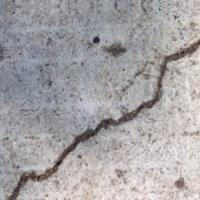crack: (2, 30, 199, 199)
